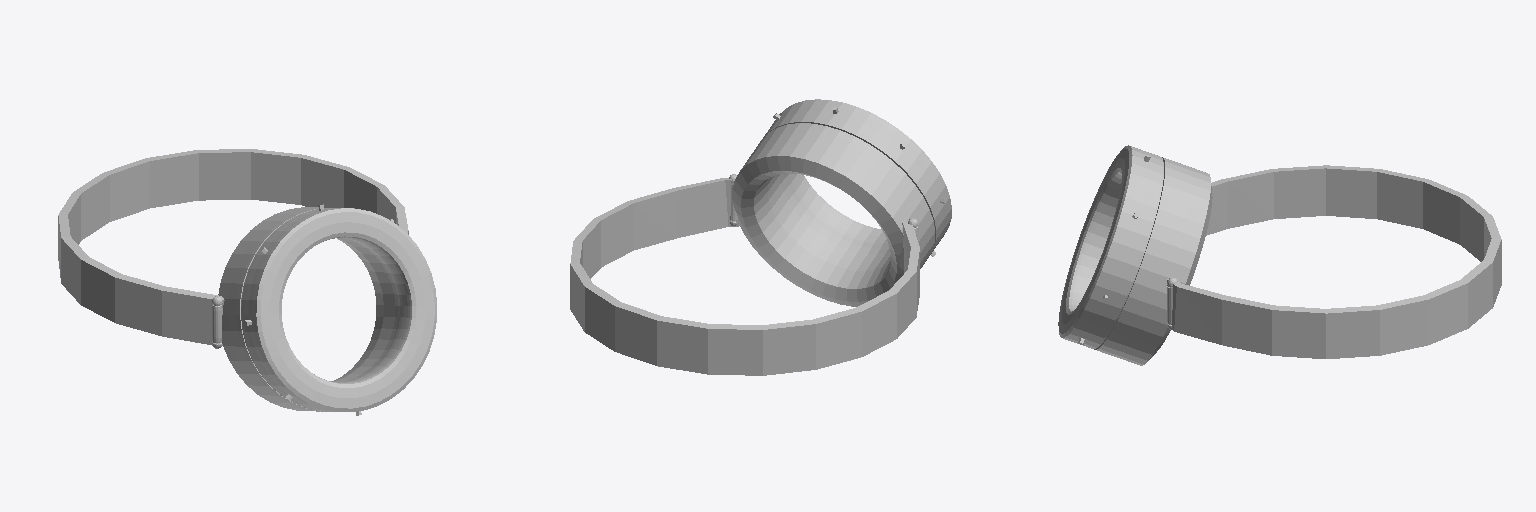
File: minion1.obj
The picture shows the model from 3 angles: view 1: azimuth 30°, elevation 25°; view 2: azimuth 150°, elevation 25°; view 3: azimuth 270°, elevation 25°; orthographic projection.
Parts seen in each view (by area): view 1: minion_one_eye; view 2: minion_one_eye; view 3: minion_one_eye.
Part boxes in pixels (x1,y1,x2,y2): minion_one_eye: (58,149,436,415); minion_one_eye: (570,99,951,375); minion_one_eye: (1058,145,1501,365).
Size of the model in its own units: 0.3142 by 0.1984 by 0.3967.